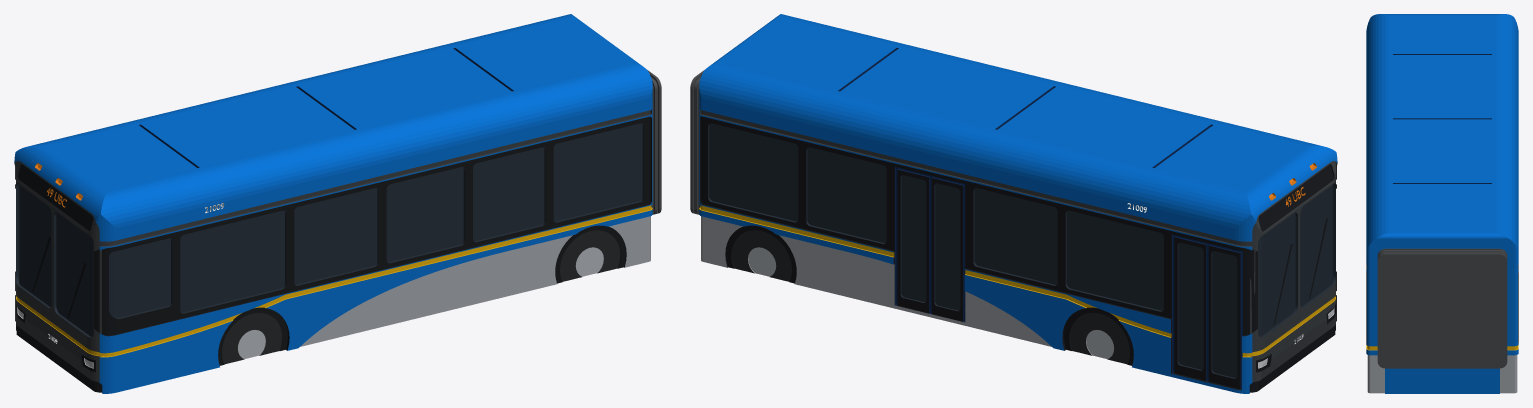
Rendered from bus49_front.glb.
3 views of the same model, side by side, from view 1: azimuth 30°, elevation 25°; view 2: azimuth 150°, elevation 25°; view 3: azimuth 270°, elevation 25° (orthographic). The views are drawn at different scales.
Parts seen in each view (by area): view 1: translink_bus49_front; view 2: translink_bus49_front; view 3: translink_bus49_front.
Boxes of the visible parts, bbox=[...] form: translink_bus49_front: bbox=[14, 14, 661, 393]; translink_bus49_front: bbox=[690, 14, 1337, 393]; translink_bus49_front: bbox=[1366, 14, 1518, 393].
Bounding box in the file's own units: 145 × 46 × 40.
